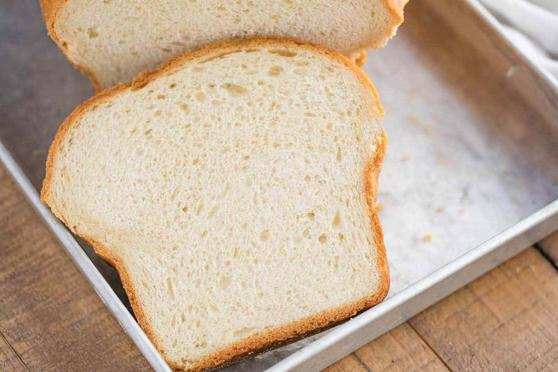white_bread: (44, 45, 417, 349)
